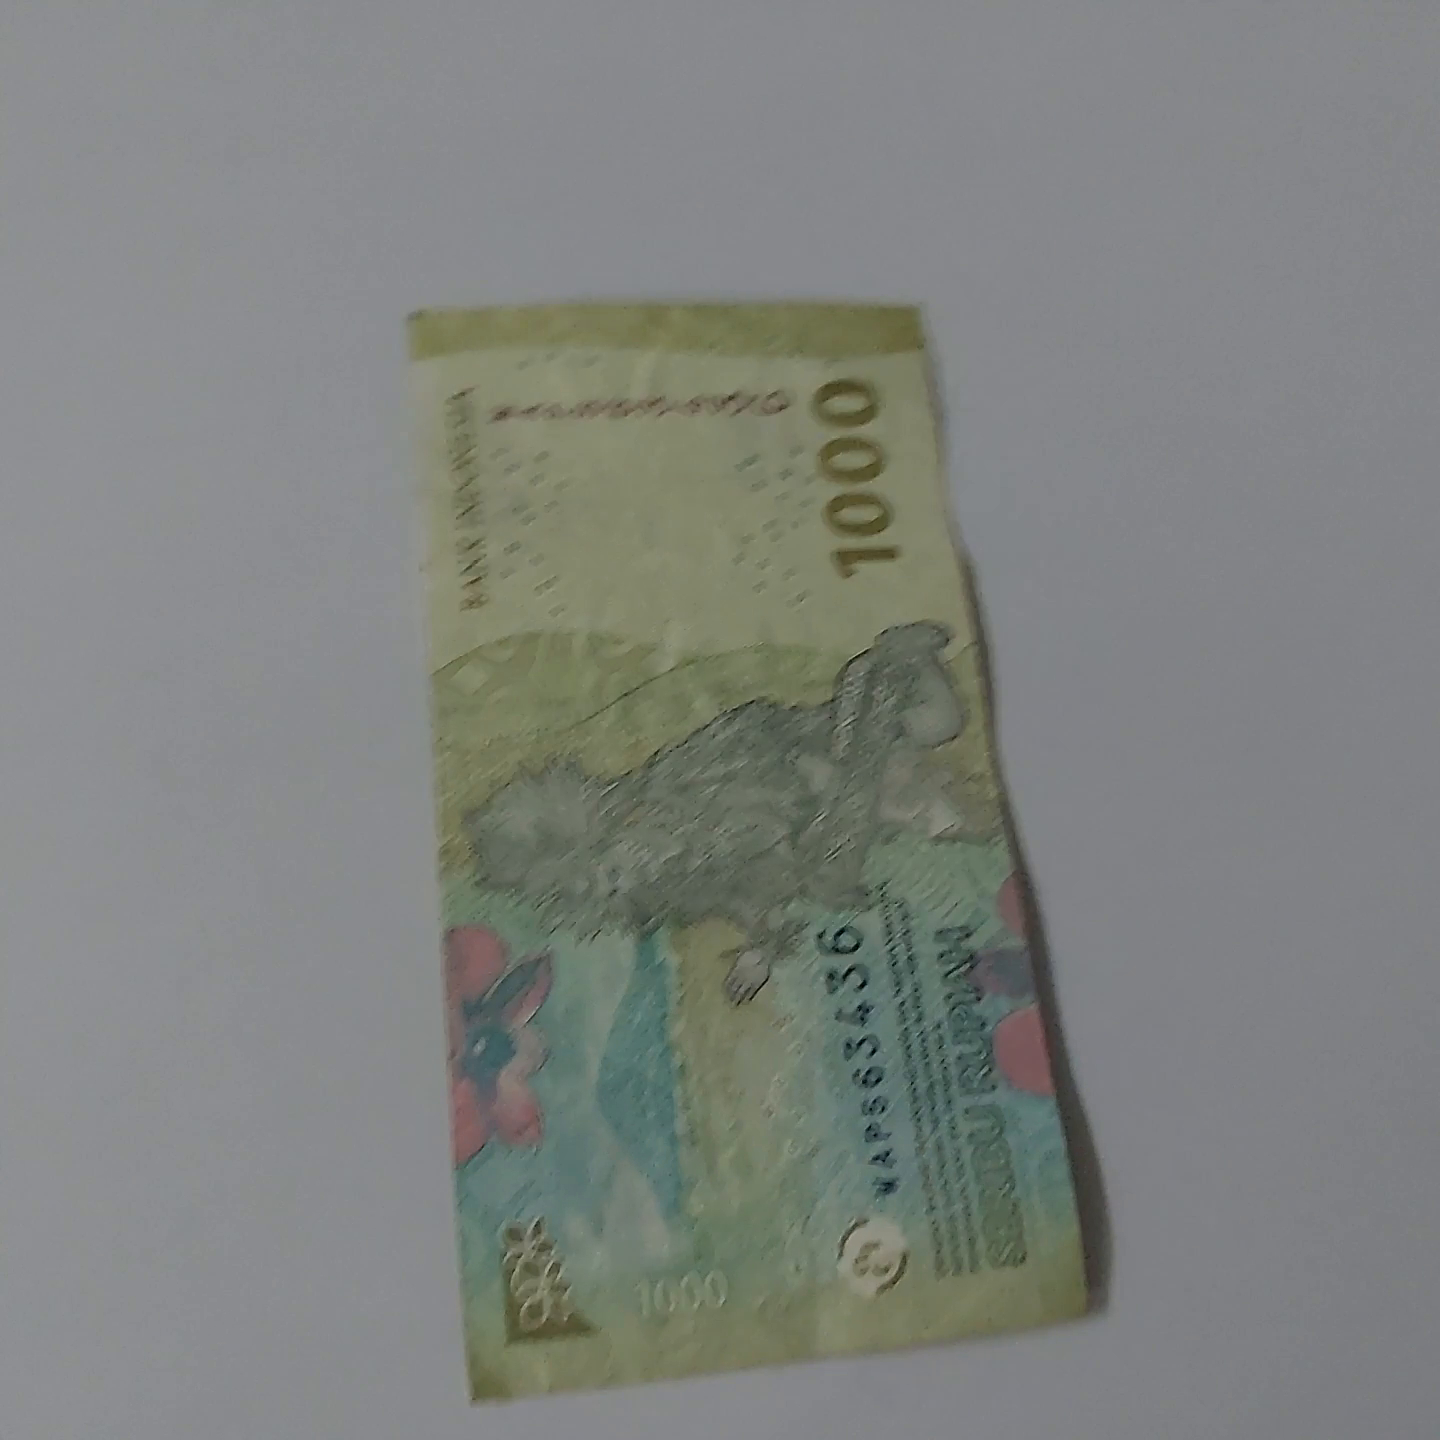1k: (318, 281, 1112, 1423)
